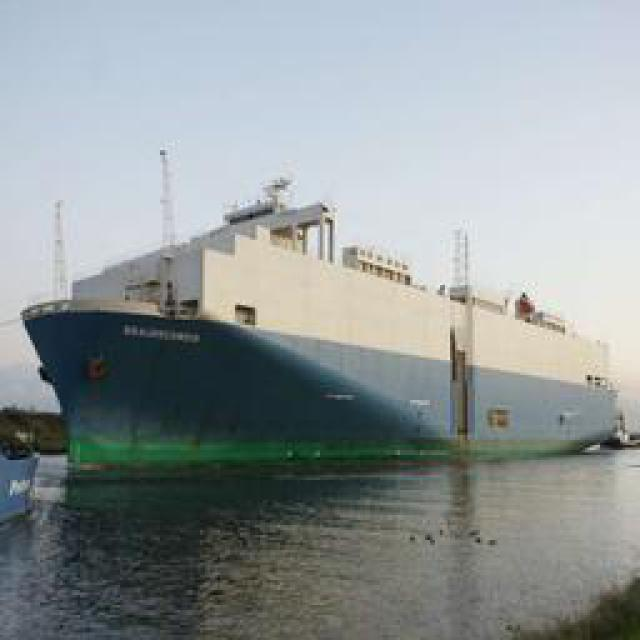Ship: (16, 114, 640, 474)
